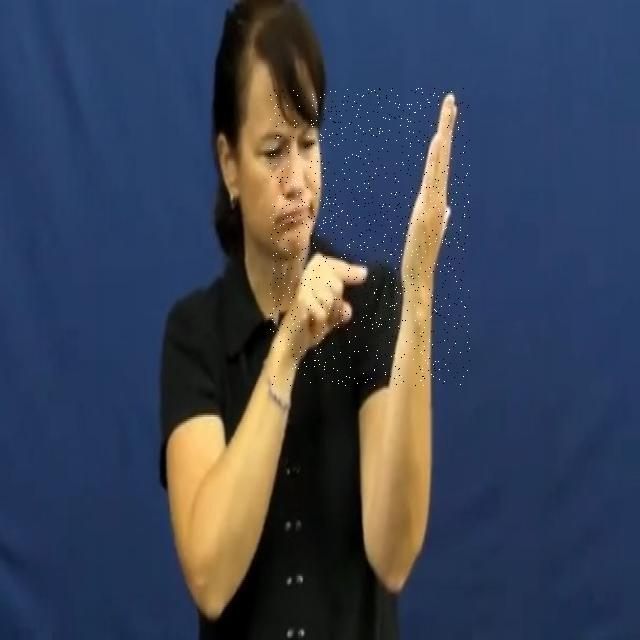menu: (270, 88, 470, 386)
